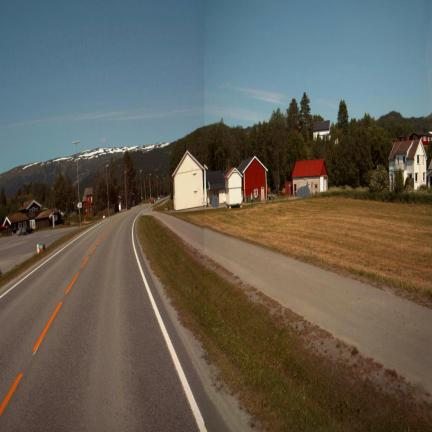Road: (0, 207, 225, 430), (154, 213, 431, 392), (0, 227, 77, 273)
